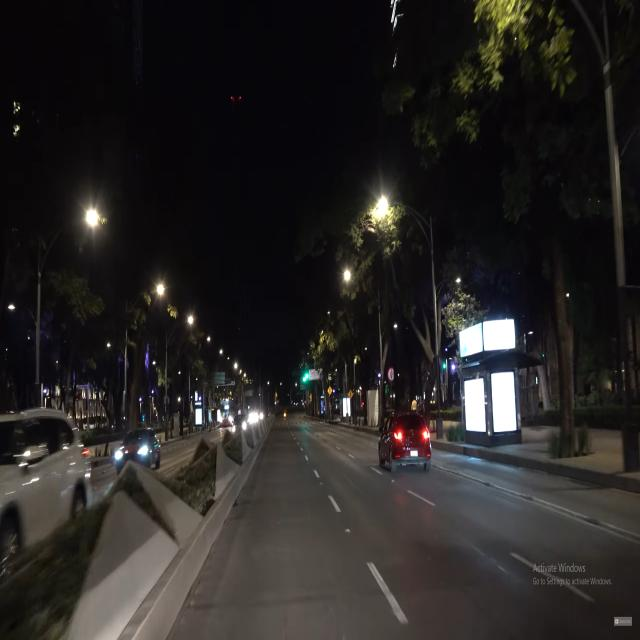headlights: (109, 440, 152, 466)
